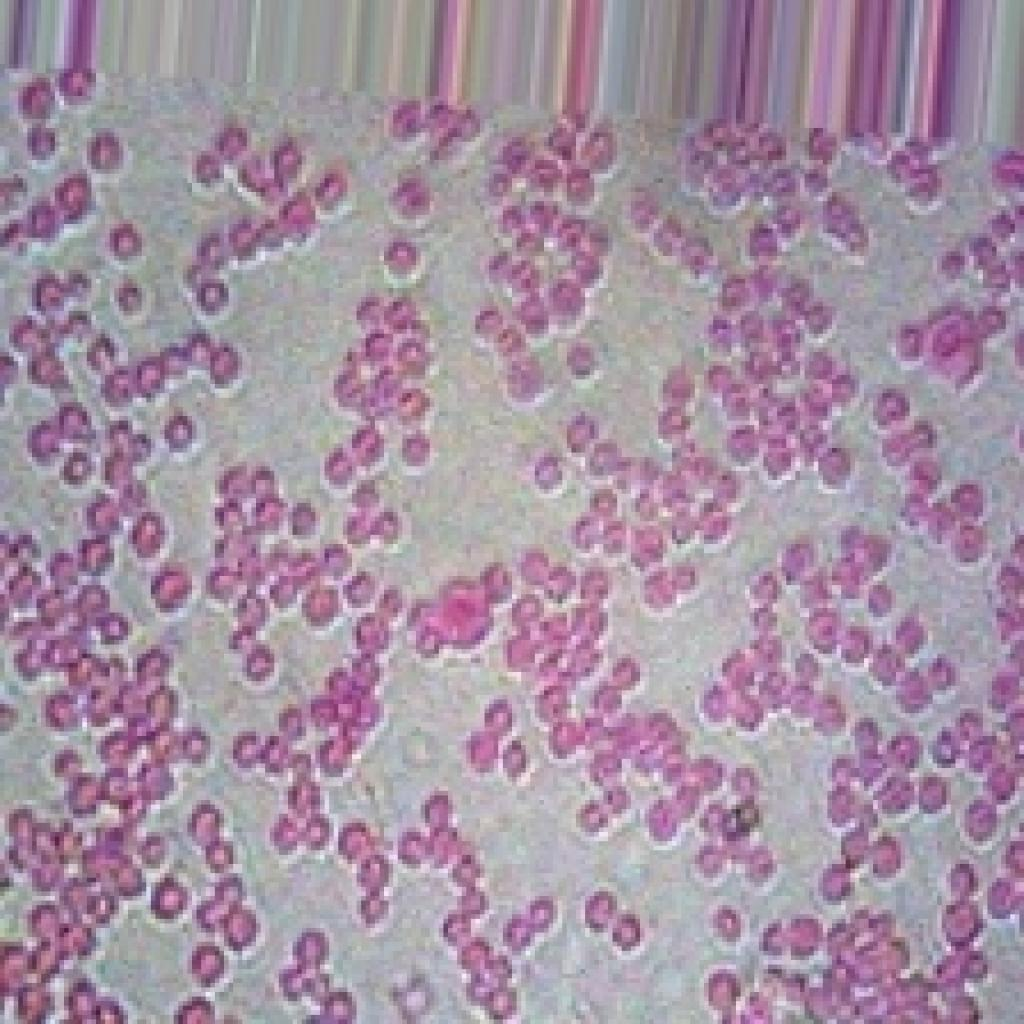Sphericalbacteria: (0, 54, 1019, 1019)
